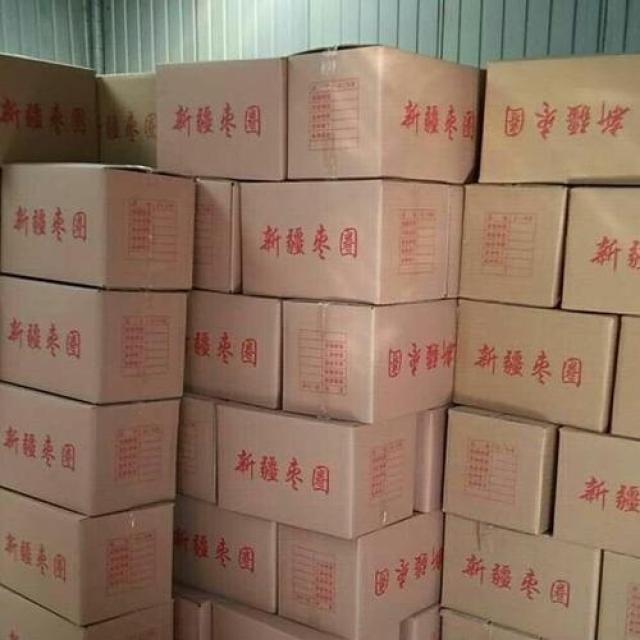box: (213, 399, 418, 539), (240, 179, 465, 304), (286, 44, 486, 182), (1, 162, 196, 290), (0, 381, 182, 517), (0, 275, 189, 405), (0, 487, 175, 627), (451, 299, 619, 434), (281, 299, 458, 425), (277, 508, 444, 638), (479, 54, 639, 184), (442, 513, 601, 639), (156, 58, 288, 181), (442, 406, 558, 536), (457, 185, 568, 307), (172, 496, 277, 614), (183, 289, 281, 410), (553, 426, 639, 557), (0, 52, 100, 164), (561, 187, 639, 316), (0, 585, 173, 639), (97, 72, 157, 168), (193, 178, 241, 293), (212, 599, 347, 639), (177, 392, 224, 504), (414, 403, 452, 513), (596, 550, 638, 639), (610, 317, 639, 439), (441, 609, 541, 638), (171, 584, 221, 638), (400, 603, 440, 638)
